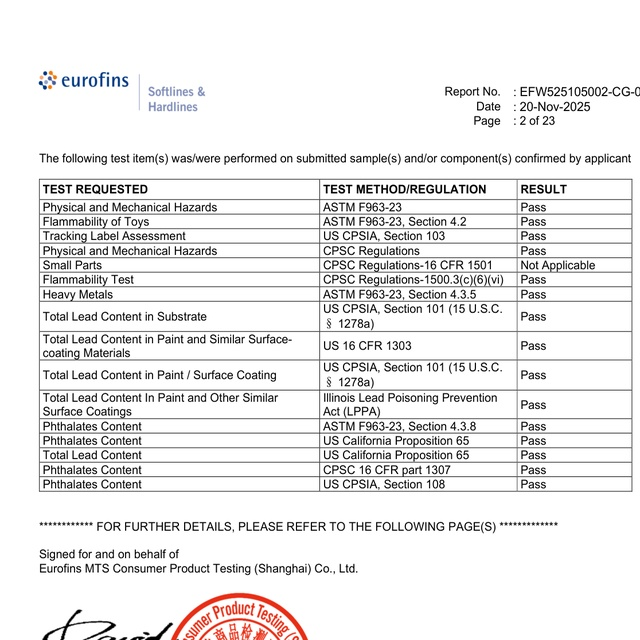eurofins: (35, 64, 134, 97)
